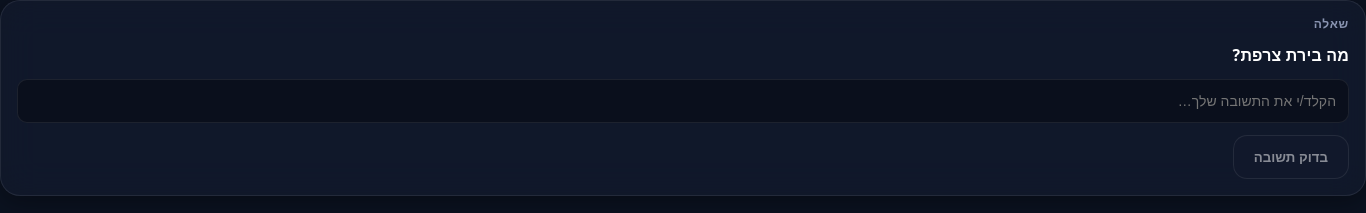
Test: QuestionAnswerPanel › disables submit until text is entered, then calls onSubmit with the typed answer
Later steps or results of the test are not shown.
Expected: the button with test id "question-submit-button" is disabled, [1233,135,1349,179]
In the field with test id "question-answer-input": [683, 101] box [17,79,1349,123], type "פריז"
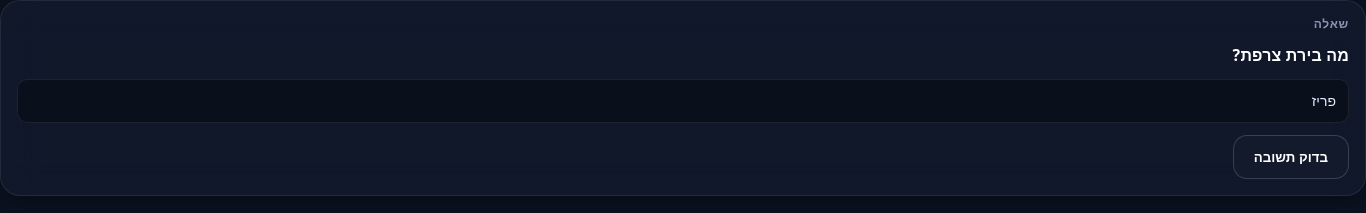
Now the button with test id "question-submit-button" is enabled, box [1233,135,1349,179]
